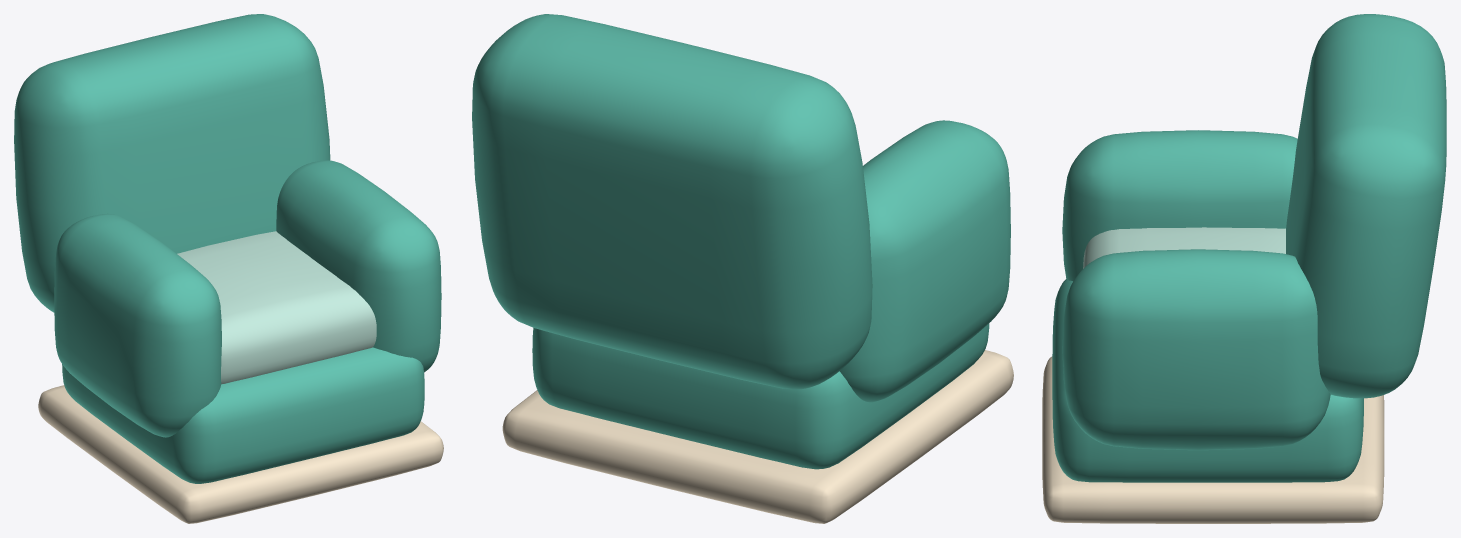
The model's file is armchair_b.glb.
3 views of the same model, side by side, from view 1: azimuth 30°, elevation 25°; view 2: azimuth 150°, elevation 25°; view 3: azimuth 270°, elevation 25° (orthographic). The views are drawn at different scales.
Visible parts, largest first — view 1: body; view 2: body; view 3: body.
Part boxes in pixels (x1=…): body: x1=14, y1=14, x2=443, y2=523; body: x1=472, y1=14, x2=1013, y2=523; body: x1=1042, y1=14, x2=1446, y2=523.
Size of the model in its own units: 0.8 by 0.8537 by 0.8039.
